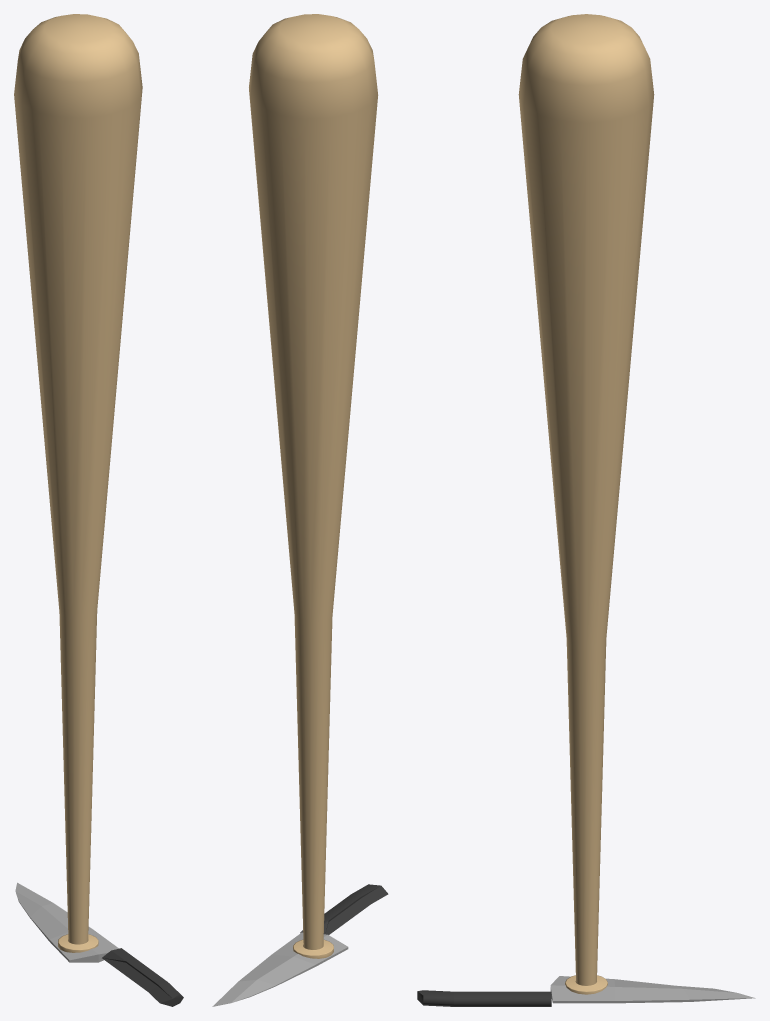
Rendered from bat and knife.fbx.
3 renders of one model, left to right at view 1: azimuth 30°, elevation 25°; view 2: azimuth 150°, elevation 25°; view 3: azimuth 270°, elevation 25°, orthographic. The views are drawn at different scales.
Visible parts, largest first — view 1: bat, knife; view 2: bat, knife; view 3: bat, knife.
Part boxes in pixels (left/top/right/bottom): bat: left=14, top=14, right=142, bottom=952; knife: left=15, top=882, right=183, bottom=1006; bat: left=249, top=14, right=378, bottom=958; knife: left=212, top=884, right=388, bottom=1006; bat: left=518, top=14, right=654, bottom=994; knife: left=417, top=976, right=755, bottom=1006.
Bounding box in the file's own units: 0.2565 × 2.02 × 0.6399.
